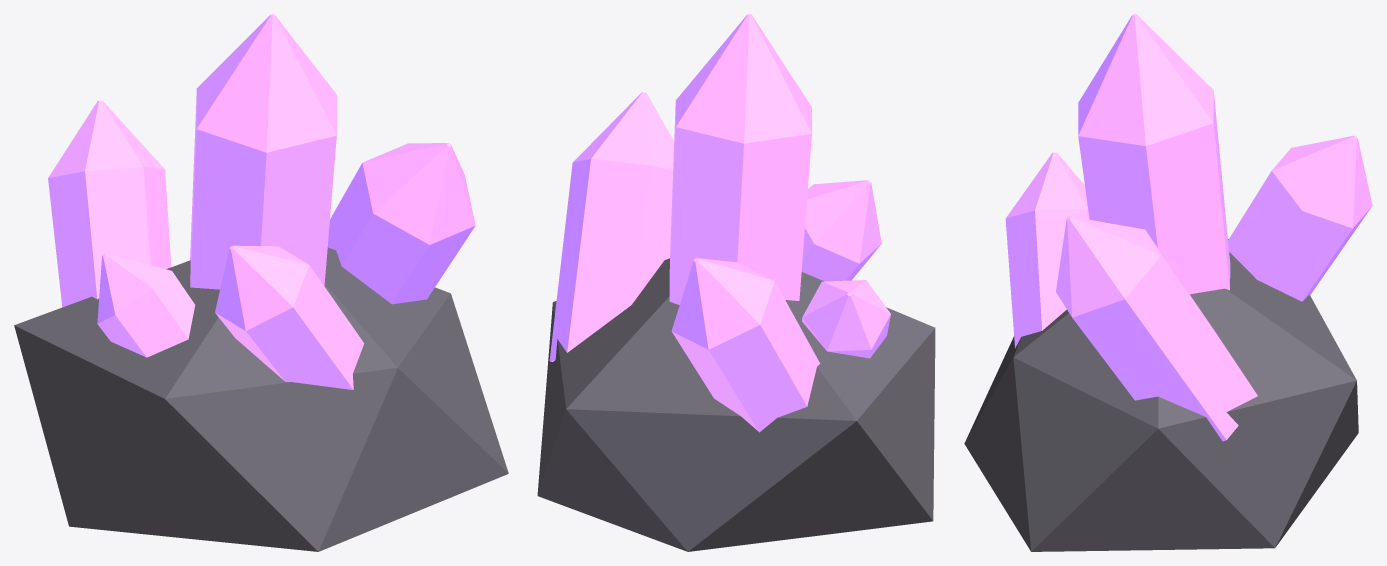
Rendered from resource-ore.glb.
The picture shows the model from 3 angles, left to right: view 1: azimuth 30°, elevation 25°; view 2: azimuth 150°, elevation 25°; view 3: azimuth 270°, elevation 25°; orthographic projection. The views are drawn at different scales.
Parts seen in each view (by area): view 1: ResourceOre_Rock, ResourceOre_Crystals; view 2: ResourceOre_Crystals, ResourceOre_Rock; view 3: ResourceOre_Crystals, ResourceOre_Rock.
Part boxes in pixels (x1,y1,x2,y2): ResourceOre_Rock: (14, 247, 508, 551); ResourceOre_Crystals: (48, 14, 475, 389); ResourceOre_Crystals: (549, 14, 890, 432); ResourceOre_Rock: (537, 258, 935, 551); ResourceOre_Crystals: (1005, 14, 1372, 441); ResourceOre_Rock: (964, 239, 1358, 551).
Size of the model in its own units: 1.79 by 2.34 by 1.68.
